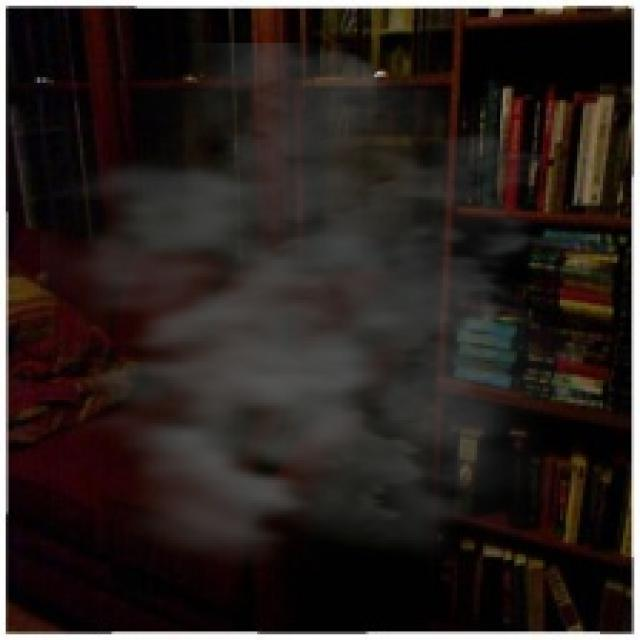Smoke: (40, 43, 600, 603)
